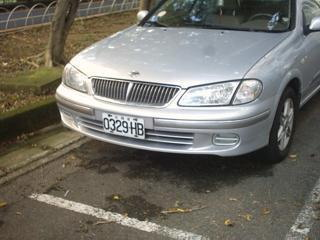plate: (100, 110, 147, 141)
